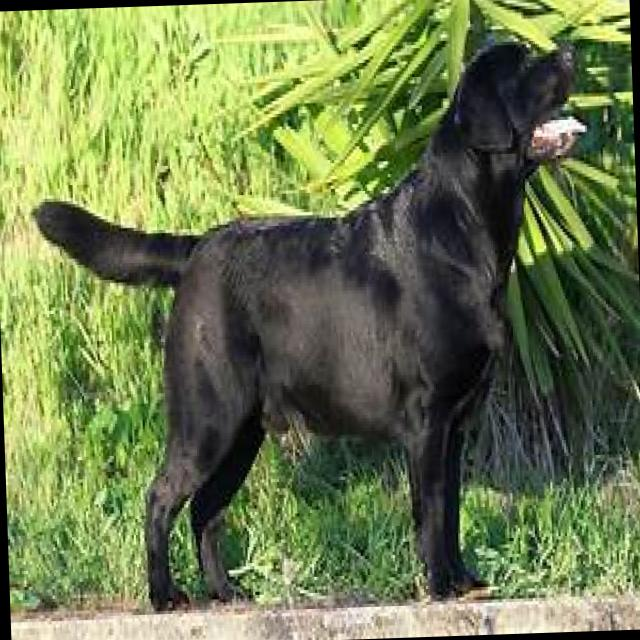animal: (35, 31, 618, 640)
